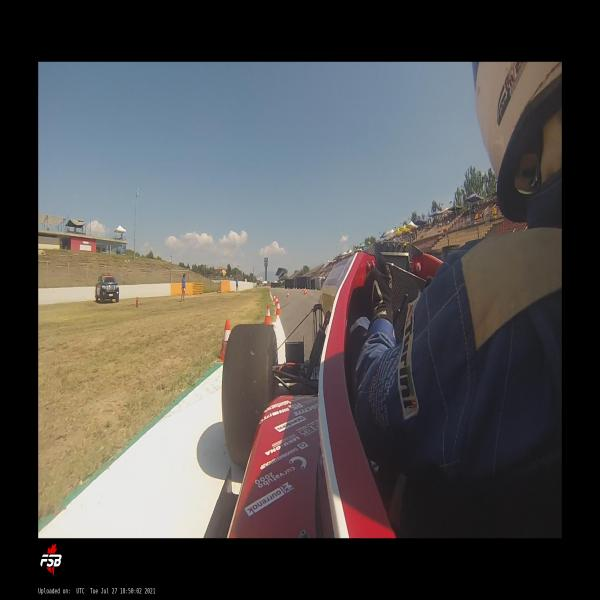orange_cone: (218, 319, 230, 362), (265, 304, 271, 324), (276, 300, 280, 314), (275, 296, 278, 306), (274, 294, 276, 301), (287, 292, 289, 297), (304, 290, 306, 295)
